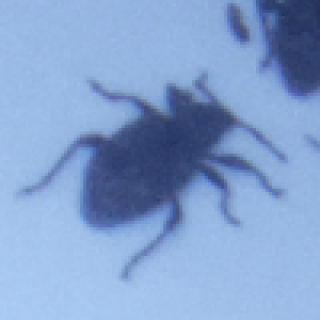bvw: (16, 68, 291, 288)
